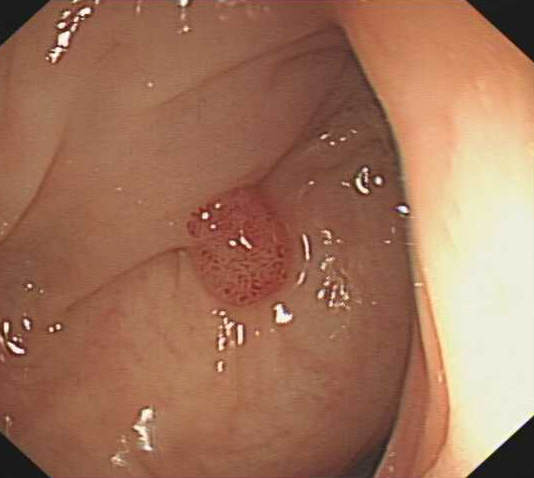adenoma: (183, 183, 292, 309)
